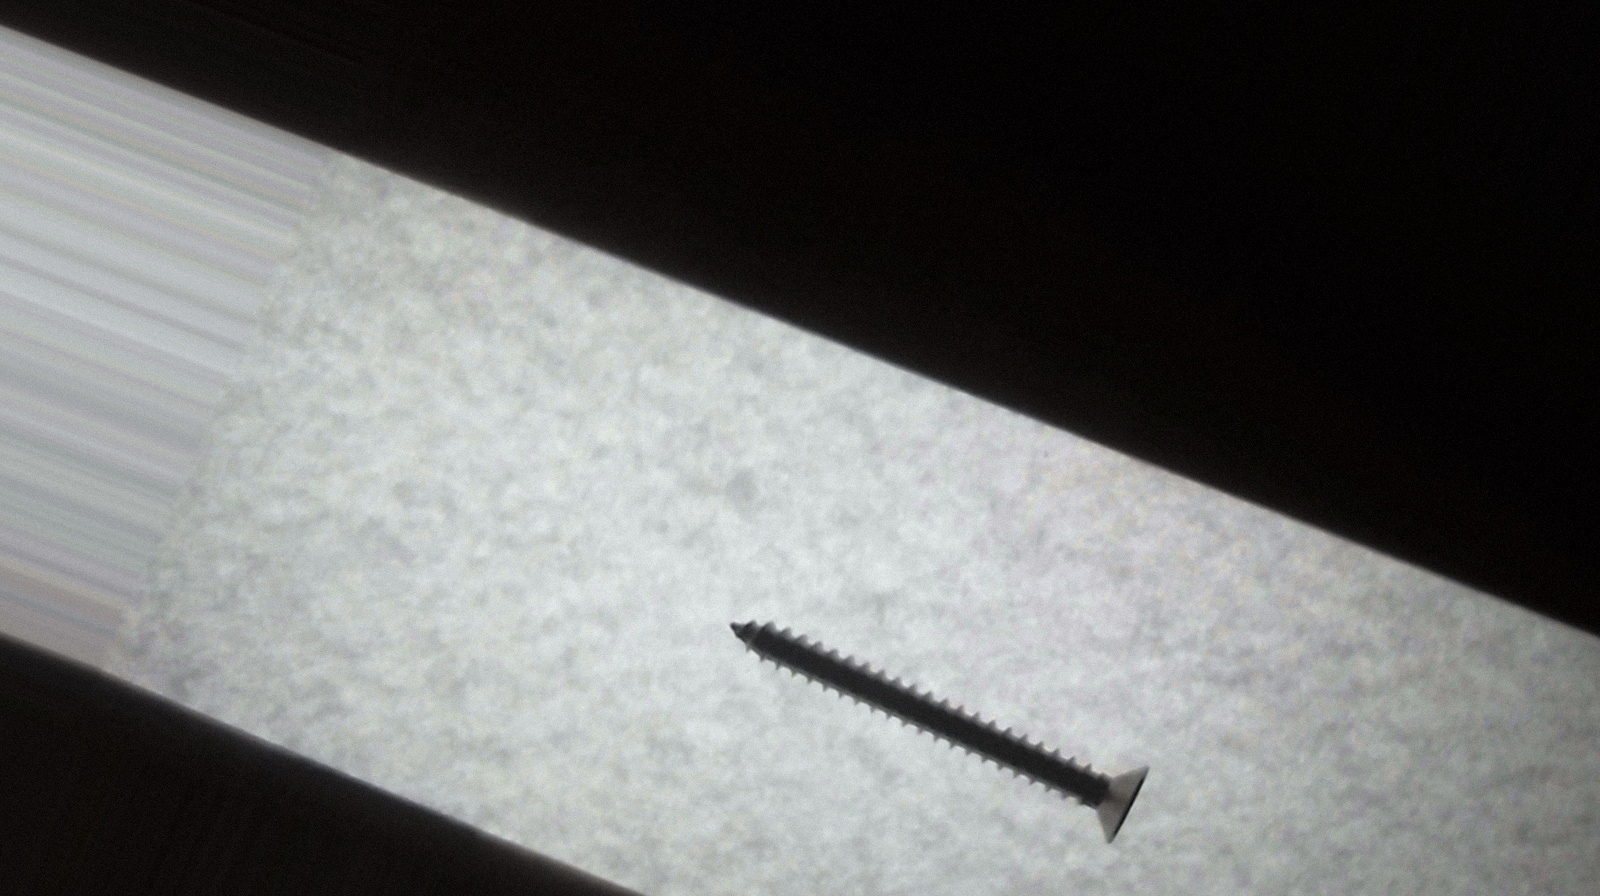S002: (671, 567, 1199, 870)
